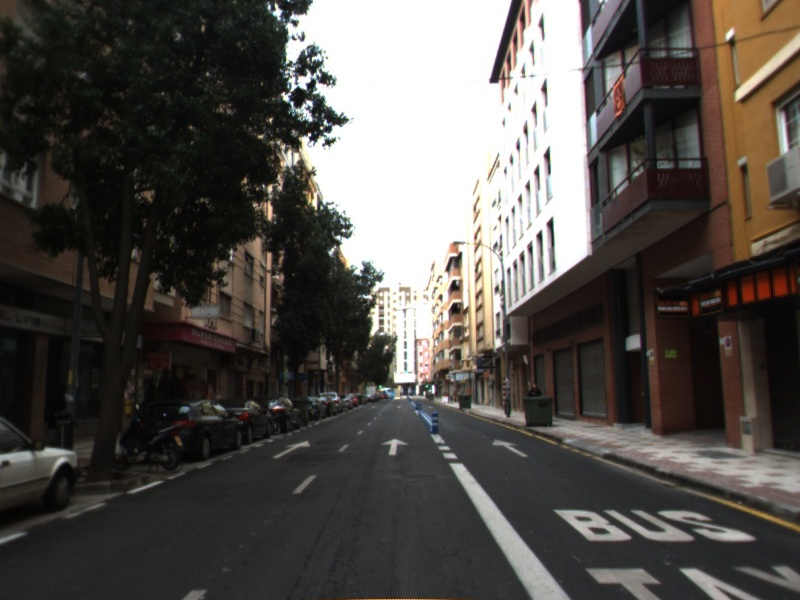STRAIGHT: (270, 439, 312, 461), (490, 437, 531, 459), (379, 436, 410, 457)
